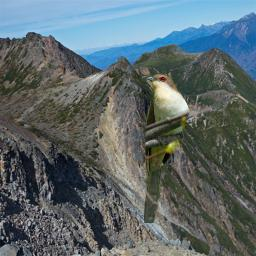Cuckoo: (140, 73, 191, 223)
